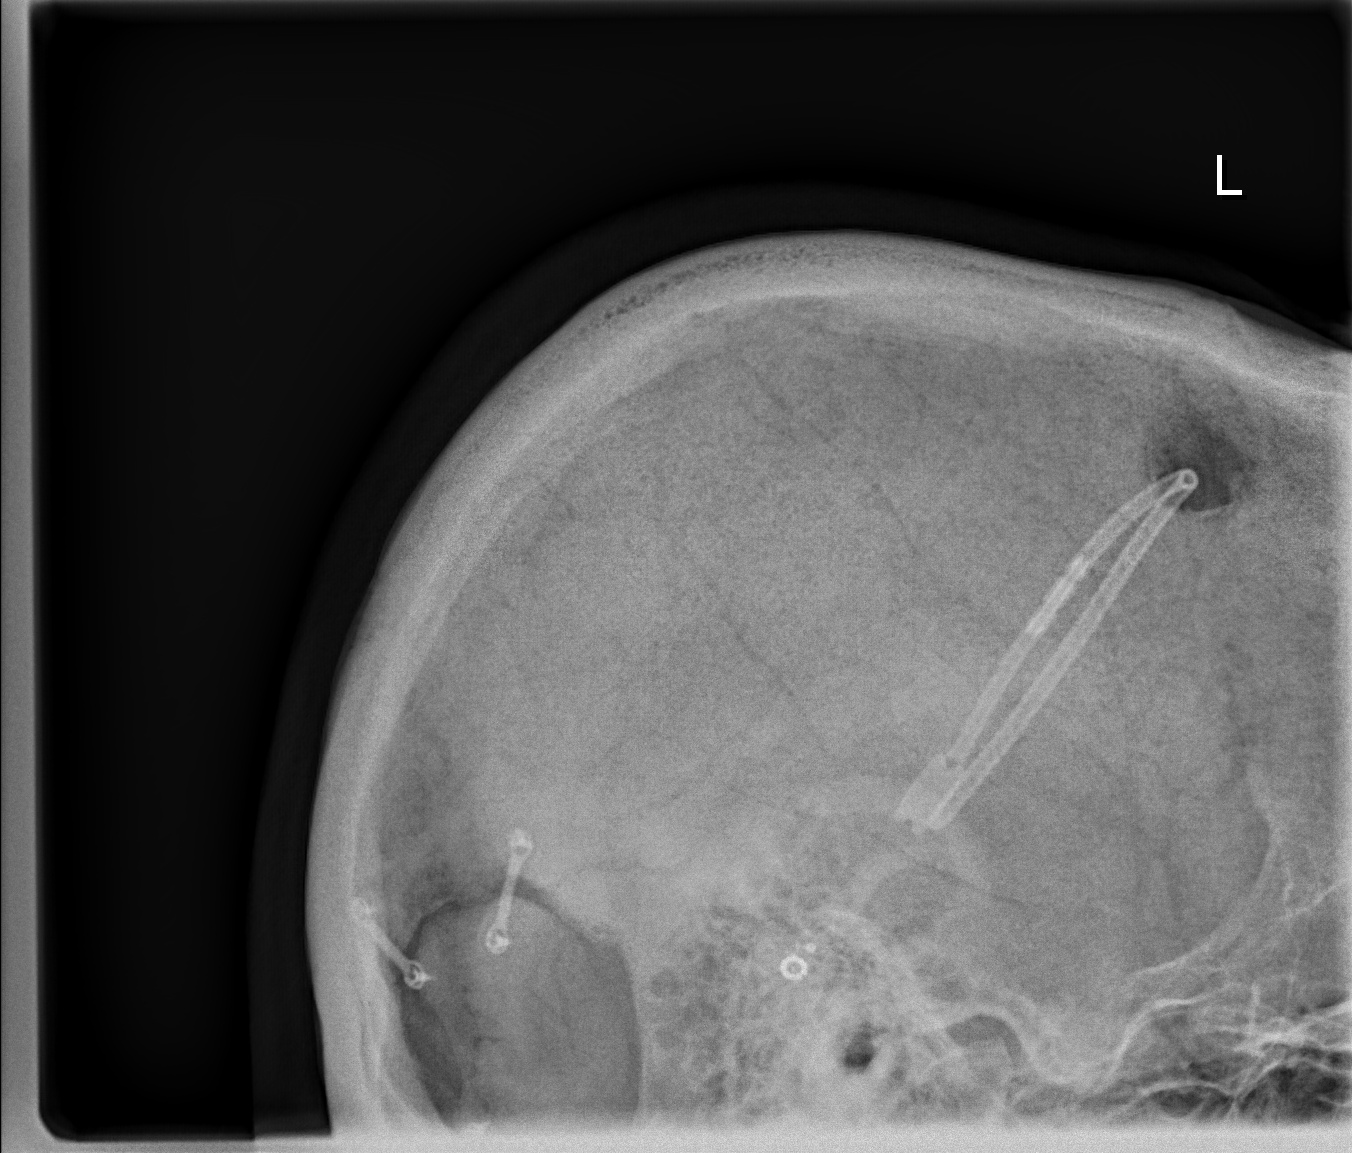Codman Hakim: (770, 925, 829, 995)
